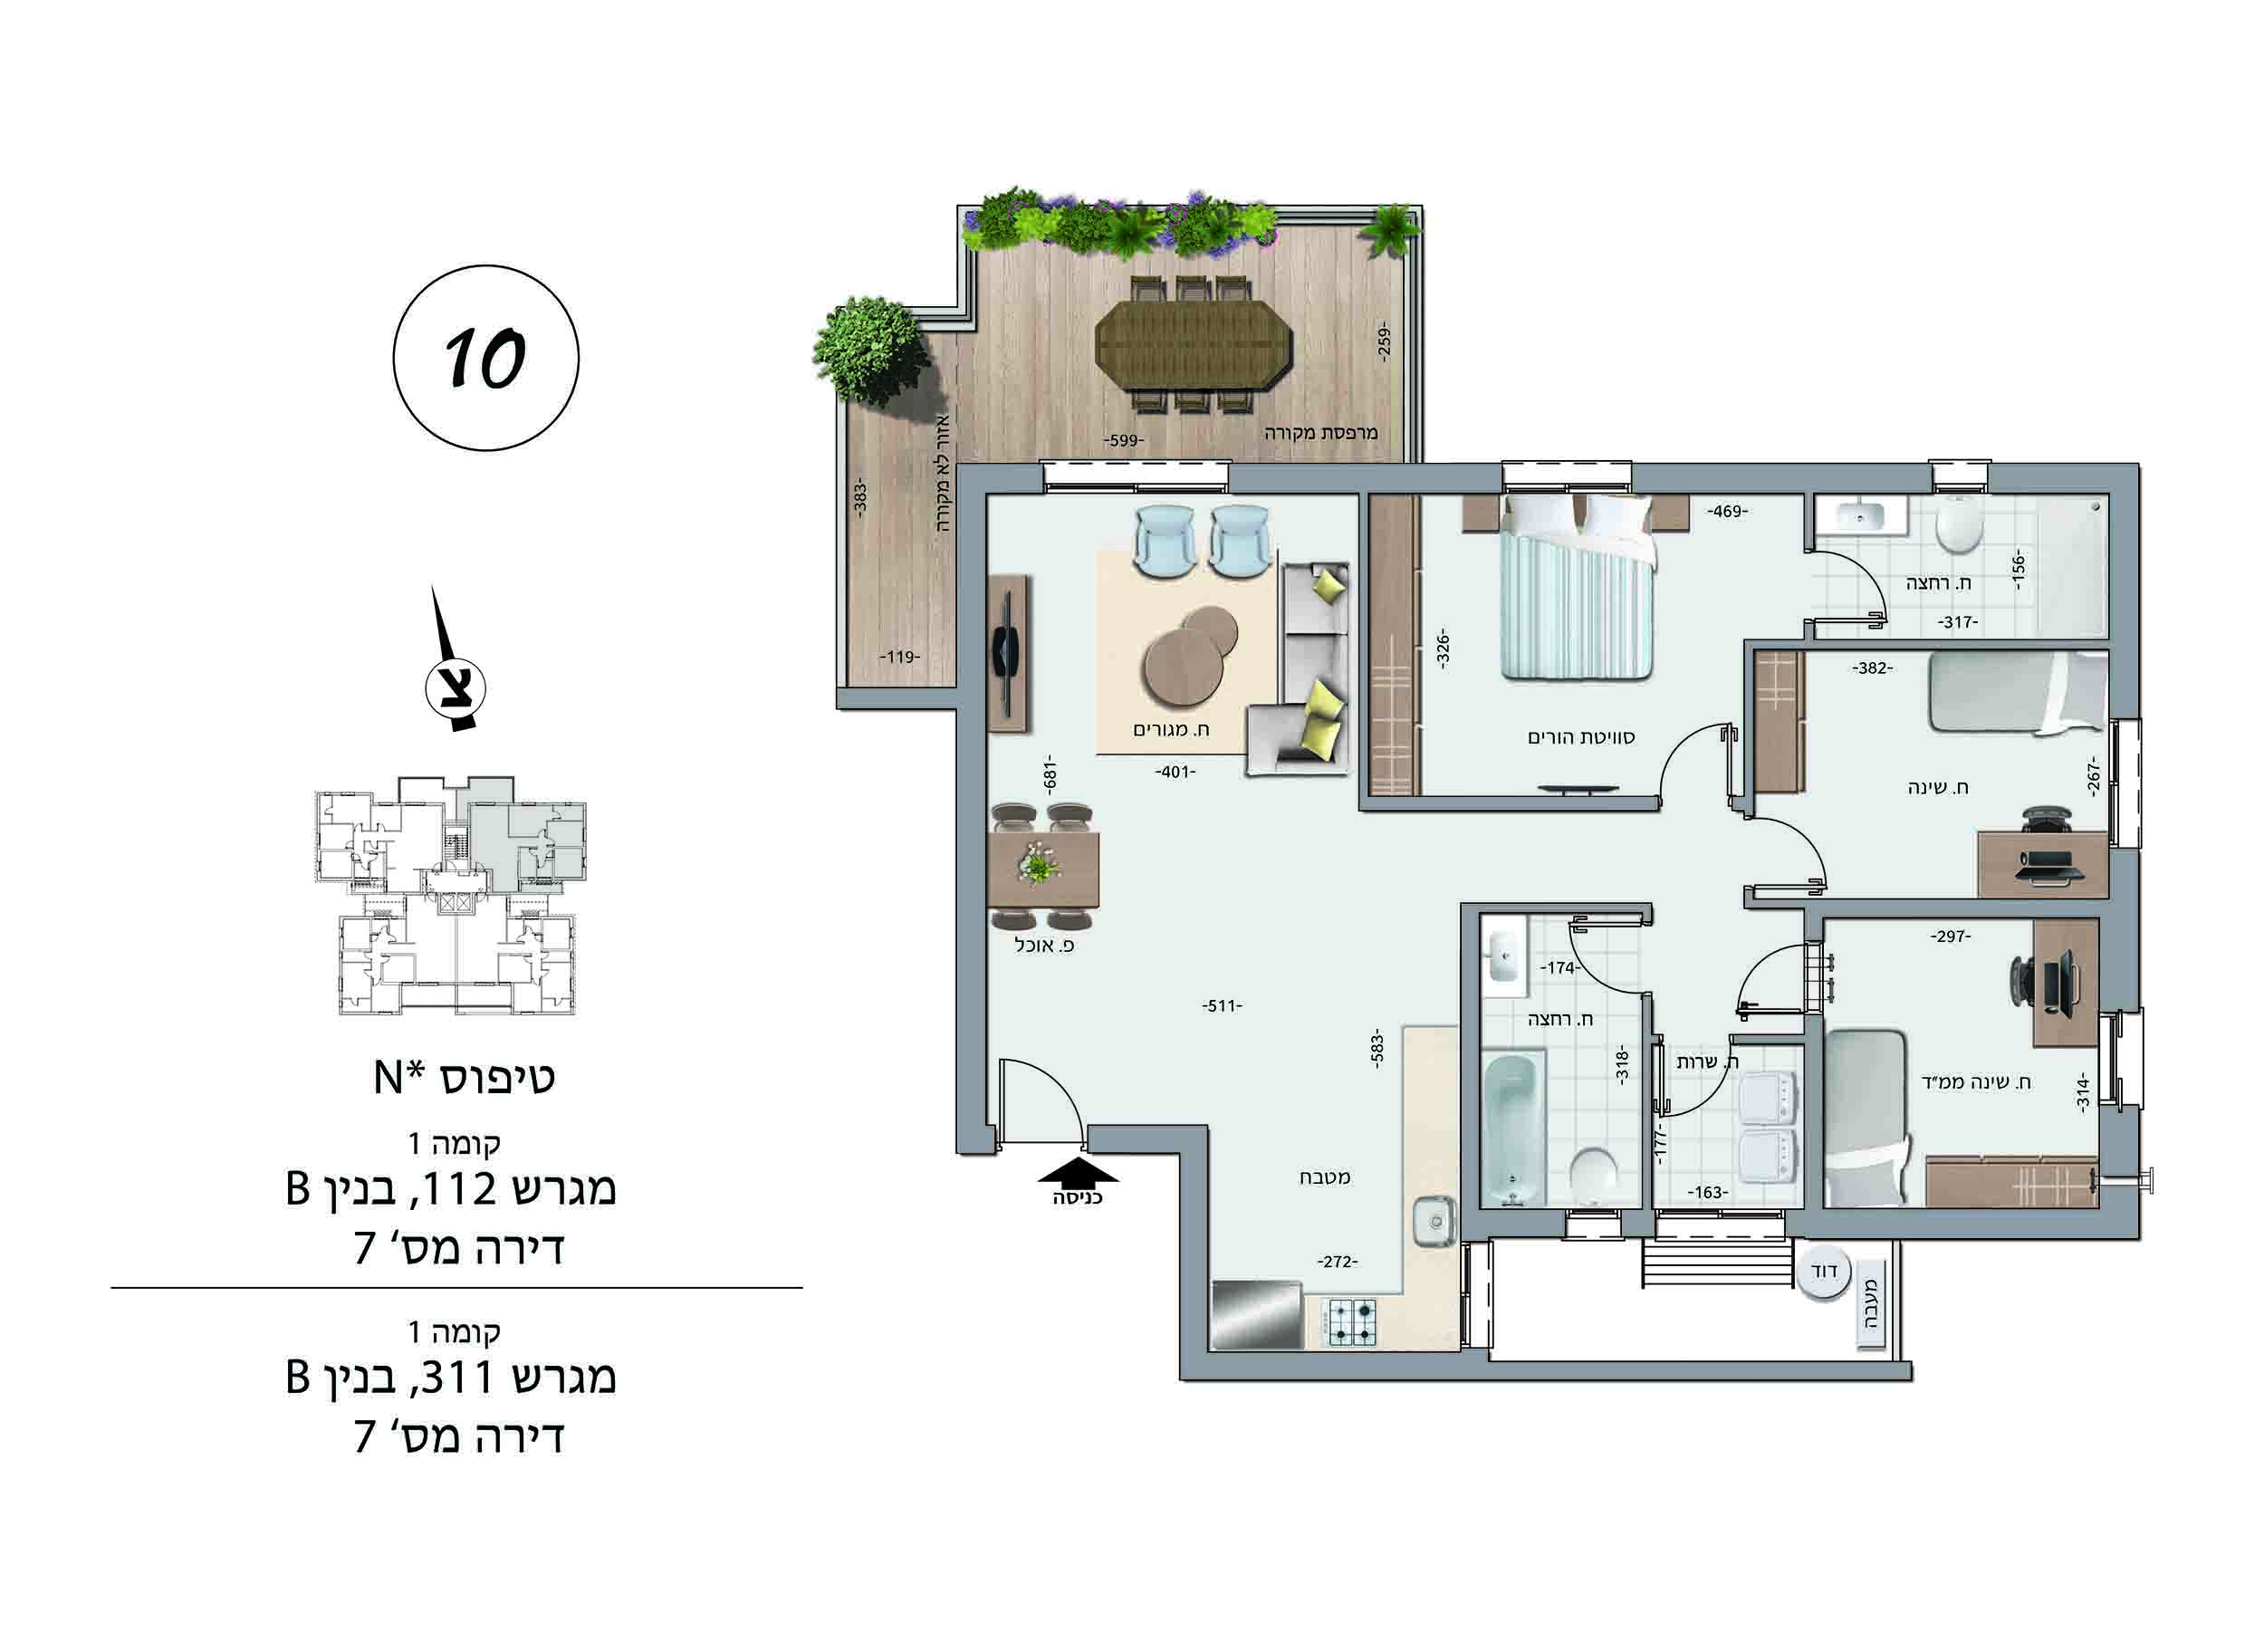door: (1649, 706, 1745, 777), (995, 1042, 1092, 1111), (1564, 914, 1633, 1002), (1652, 1058, 1738, 1125), (1730, 938, 1793, 1028), (1765, 810, 1828, 895), (1840, 543, 1898, 633)
wall: (956, 462, 988, 1155), (1796, 1206, 2141, 1237), (1633, 460, 1932, 492), (1178, 1351, 1489, 1378), (1176, 1125, 1208, 1380), (2108, 464, 2139, 717), (1230, 466, 1503, 494), (1461, 902, 1482, 1243), (1496, 1360, 1883, 1378), (1803, 902, 2120, 916), (1803, 1016, 1825, 1209), (1357, 494, 1369, 812), (1366, 796, 1661, 808), (1090, 1127, 1211, 1151), (1644, 993, 1651, 1213)
window: (1137, 483, 1227, 494), (2108, 784, 2120, 845), (1932, 482, 1988, 494), (2108, 717, 2118, 782), (1505, 482, 1566, 492), (1048, 483, 1136, 490), (1656, 1207, 1721, 1216), (1568, 1207, 1621, 1218), (1723, 1211, 1782, 1220), (1570, 483, 1631, 490)
